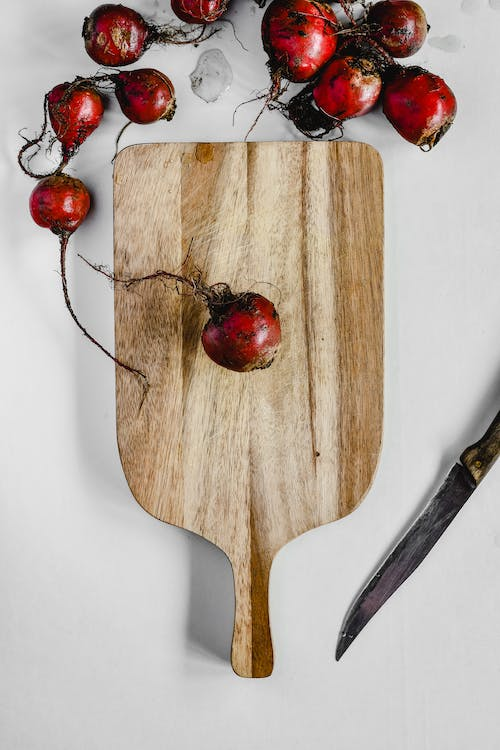knife: (333, 407, 500, 662)
